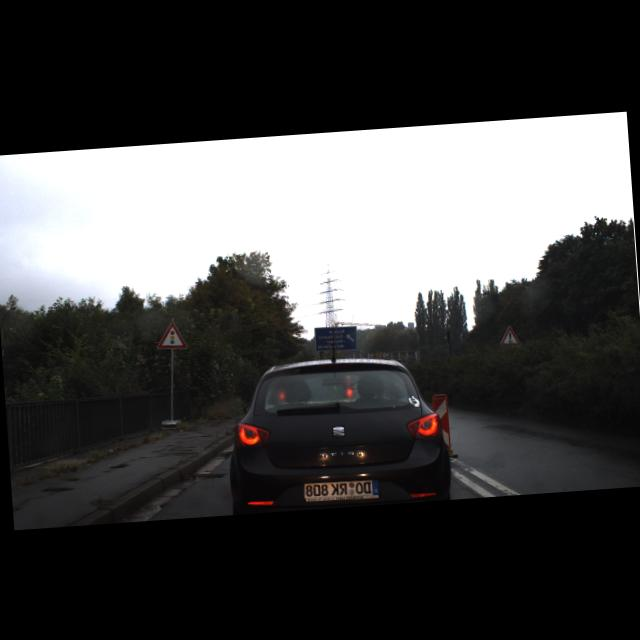danger: (155, 319, 188, 350), (498, 324, 521, 346)
